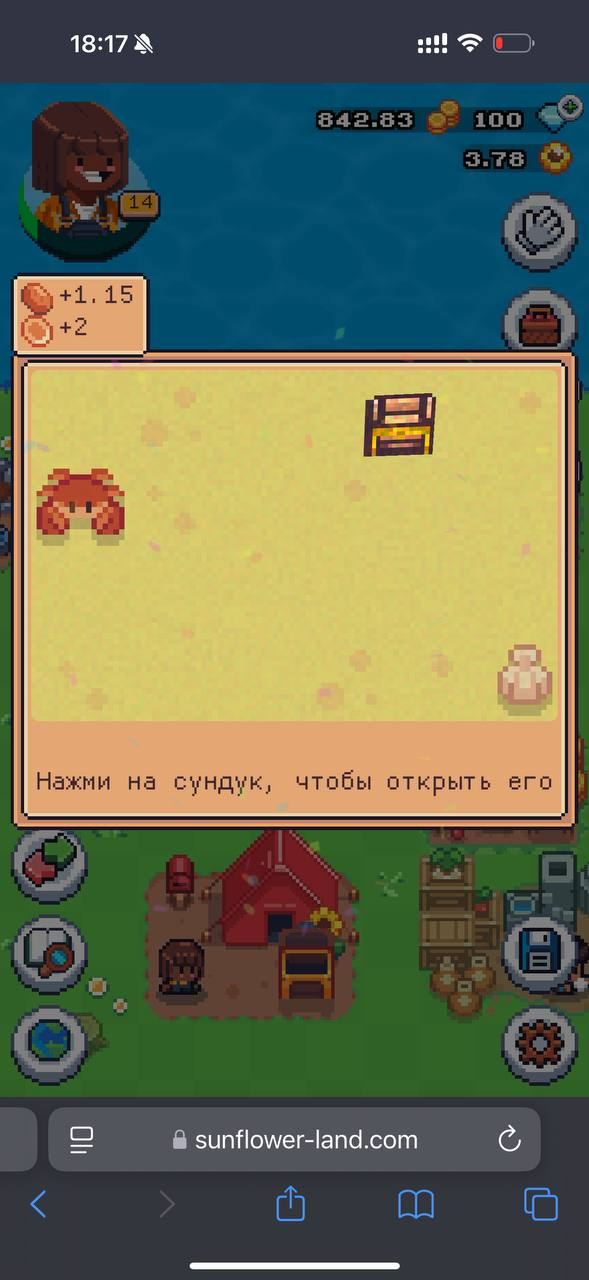capcha_chest: (363, 389, 437, 458)
